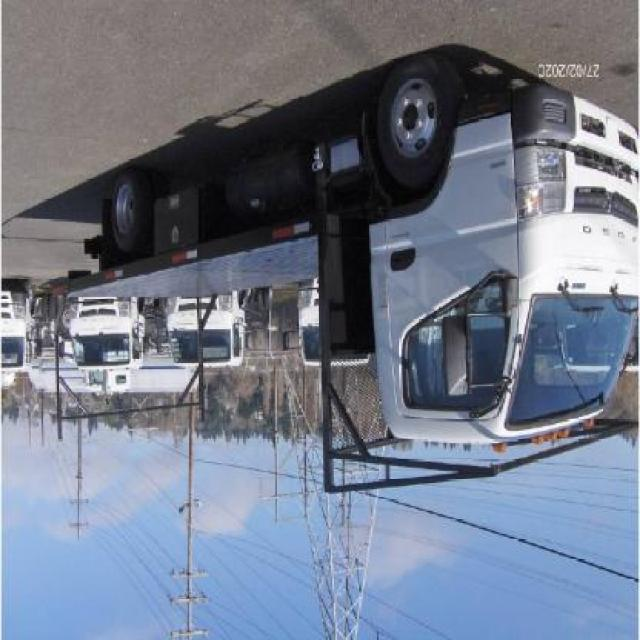truck: (84, 61, 640, 498)
